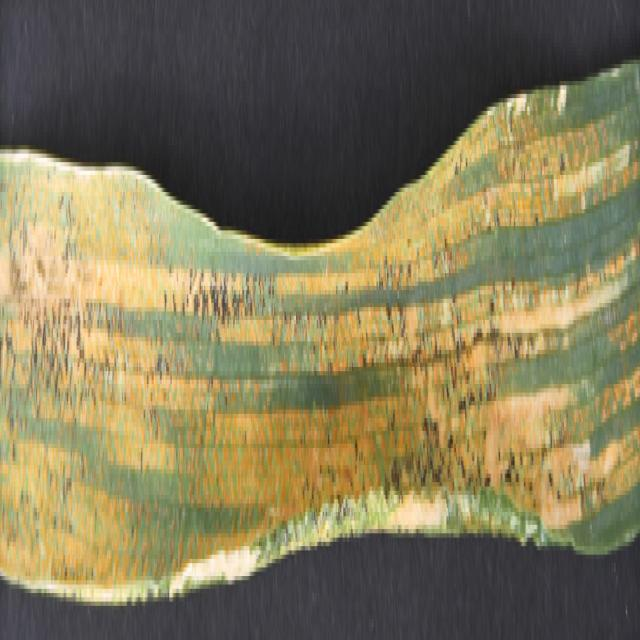leaf rust: (0, 85, 640, 605)
